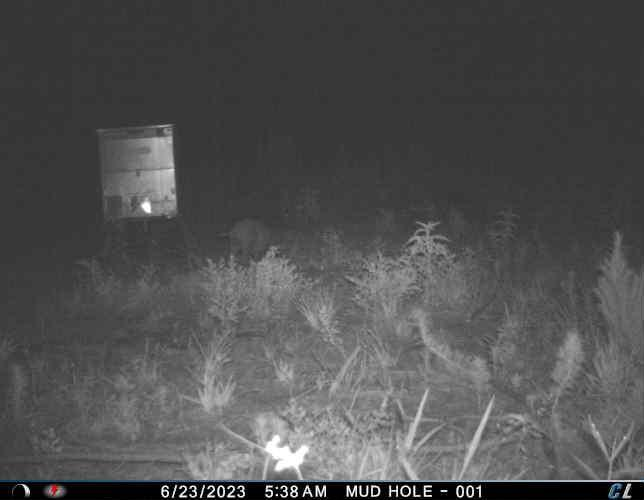Hog: (221, 215, 278, 262)
